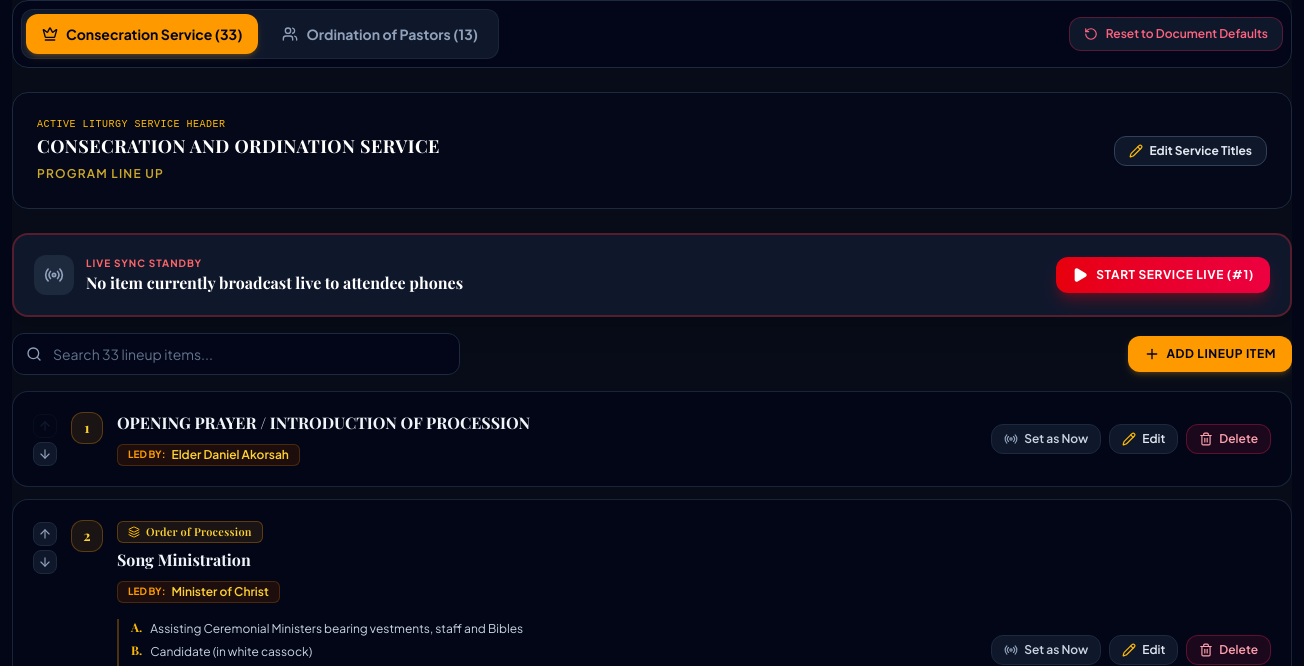
Test: ProgramLineupManager Component (Admin Liturgy Studio) › renders Consecration title and allows editing it
Expected: the heading "CONSECRATION AND ORDINATION SERVICE" is shown, [37,132,440,160]
Expected: the text "PROGRAM LINE UP" is shown, [37,166,164,181]
Click the button "Edit Service Titles" at (1191, 150), box [1114,136,1267,166]
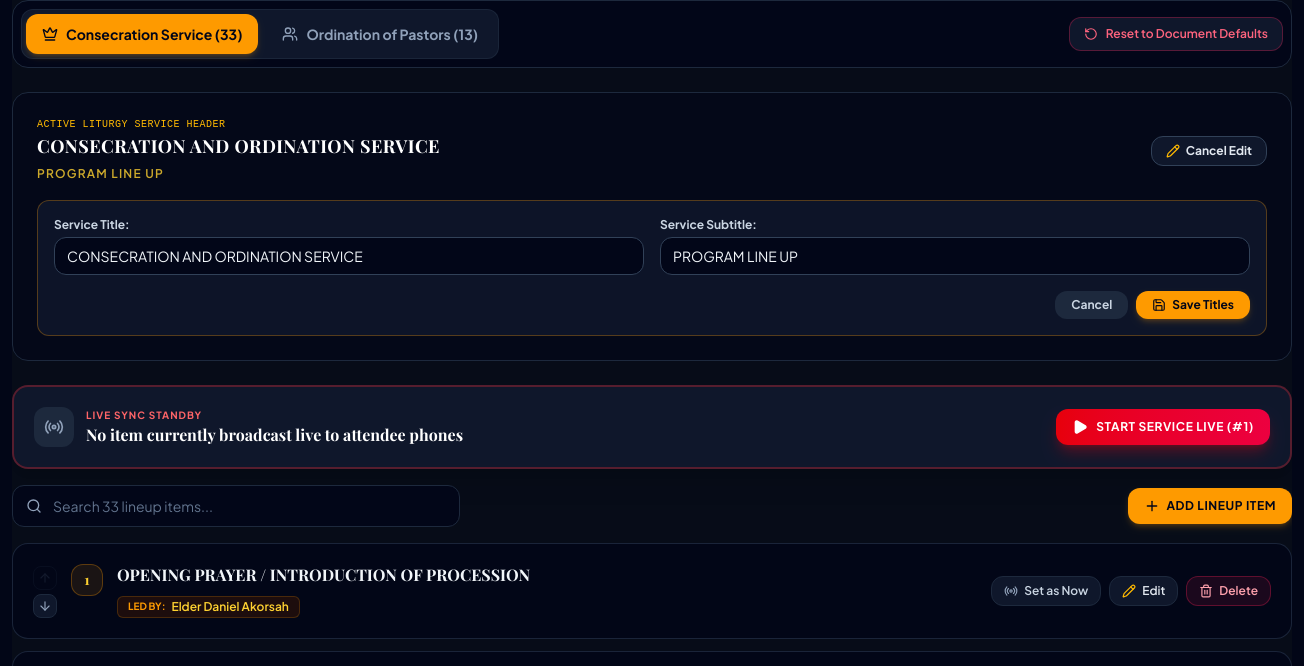
Replace the text in the field showing "CONSECRATION AND ORDINATION SERVICE" below "Service Title:" with "UPDATED CONSECRATION LITURGY" at (349, 256), box [54,237,644,275]
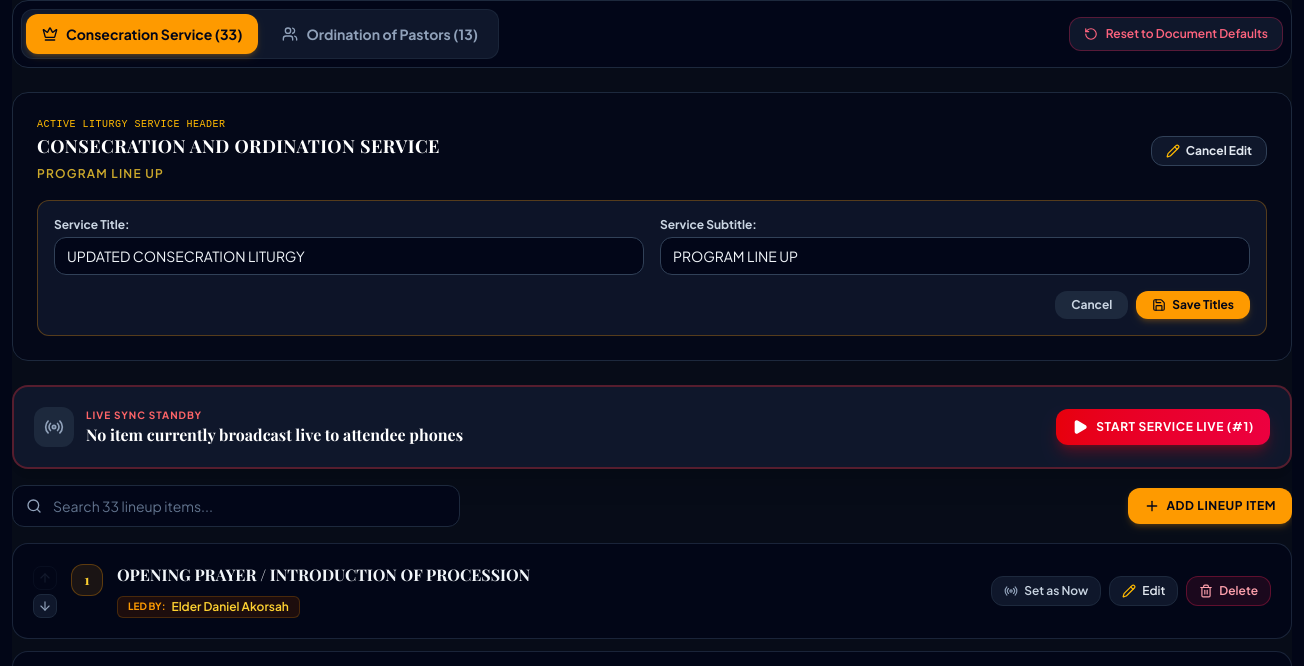
Click the button "Save Titles" at (1193, 305), box [1136,291,1250,319]
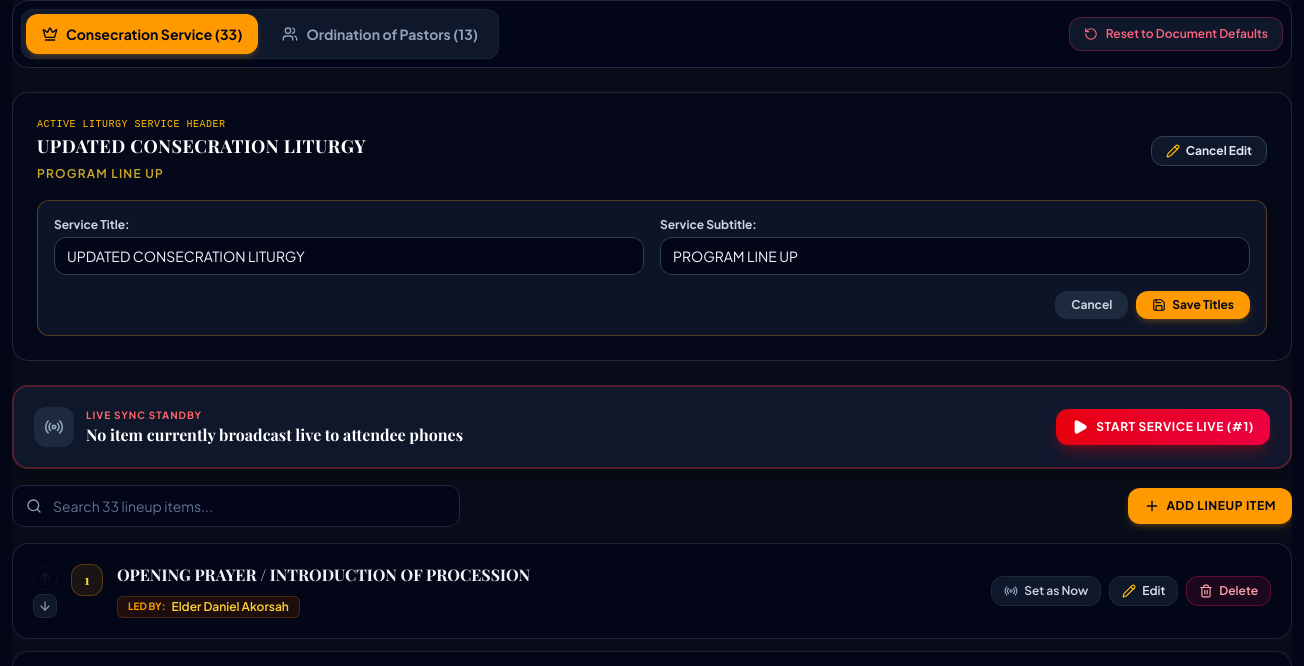
Expected: the heading "UPDATED CONSECRATION LITURGY" is shown, [37,132,366,160]
